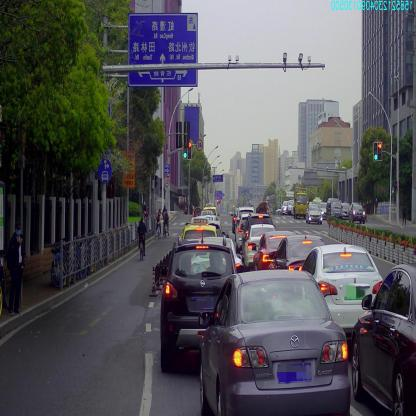traffic-light: (183, 140, 188, 159), (188, 140, 192, 158), (378, 142, 382, 160), (374, 142, 378, 160)
